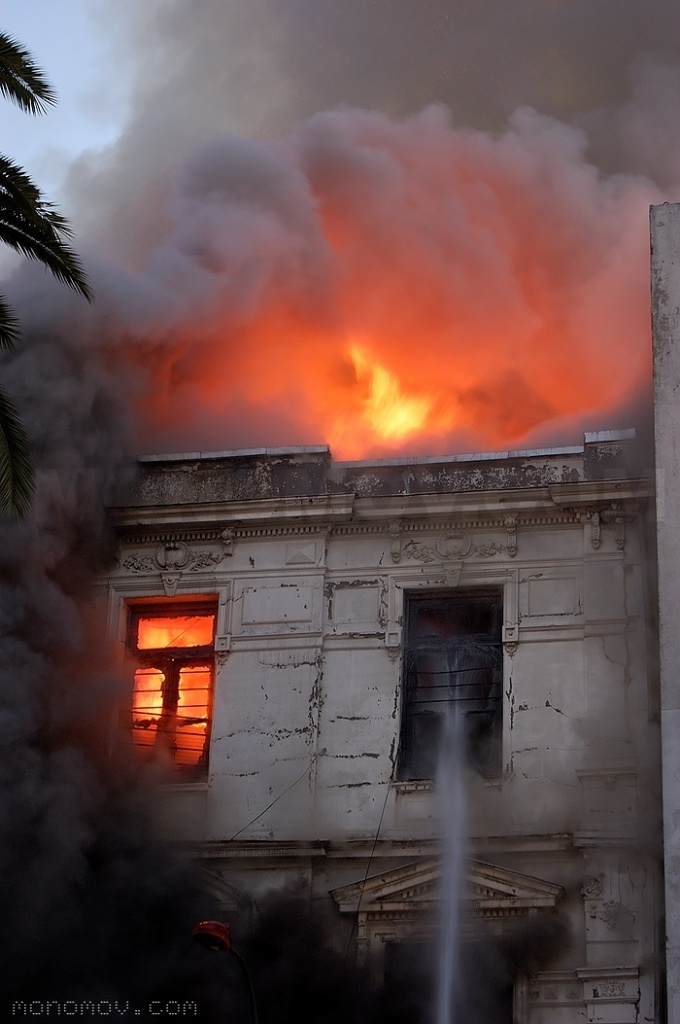fire: (319, 336, 449, 453), (127, 610, 215, 754)
